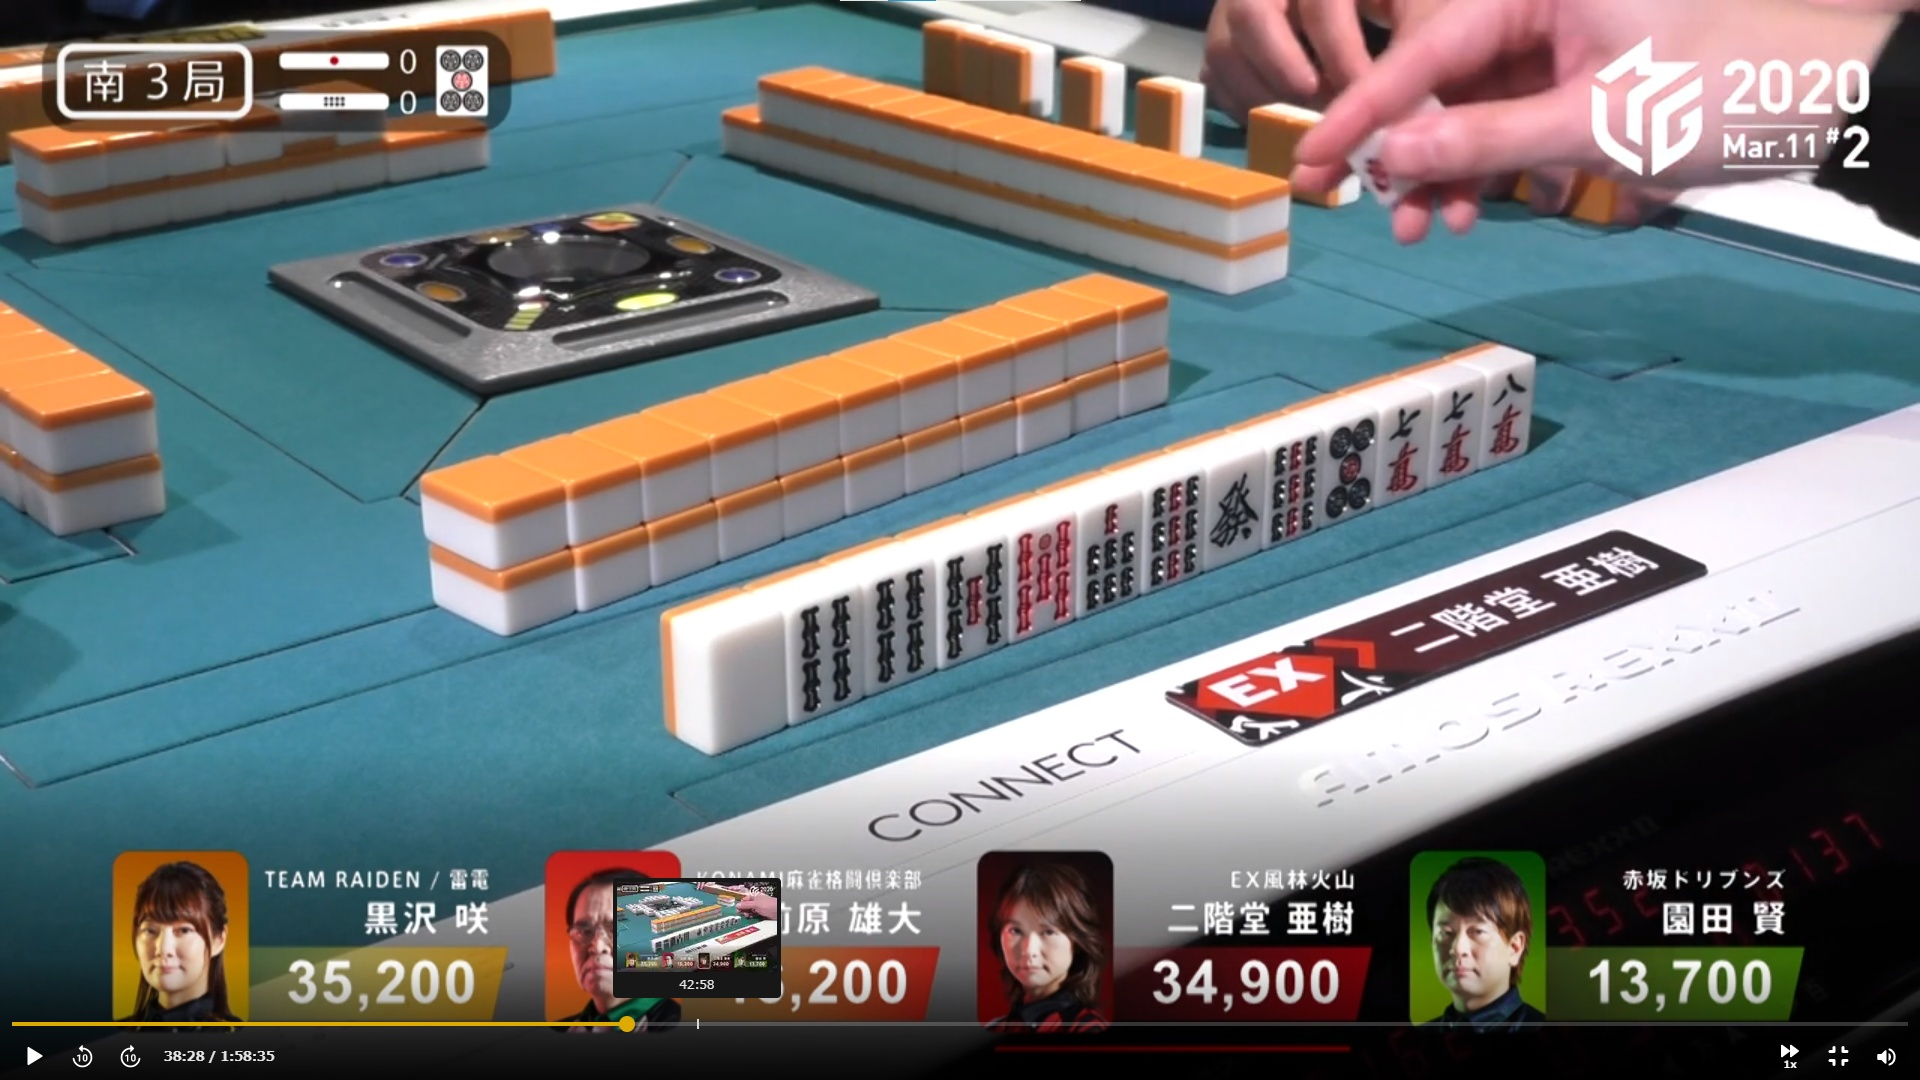4s: (868, 566, 936, 683), (794, 597, 852, 709)
5p: (1316, 410, 1375, 525)
5s: (942, 541, 1007, 662)
5sr: (1011, 514, 1071, 636)
7m: (1379, 394, 1424, 505), (1431, 378, 1473, 479)
7s: (1073, 491, 1139, 608)
8m: (1482, 357, 1527, 460)
9s: (1143, 473, 1205, 587), (1263, 429, 1315, 547)
haku: (694, 600, 786, 741)
hand_nan_3: (51, 40, 264, 123)
hatsu: (1205, 452, 1263, 563)
round_0: (268, 82, 417, 123)
team_exfurinkazan: (1158, 625, 1427, 748)
